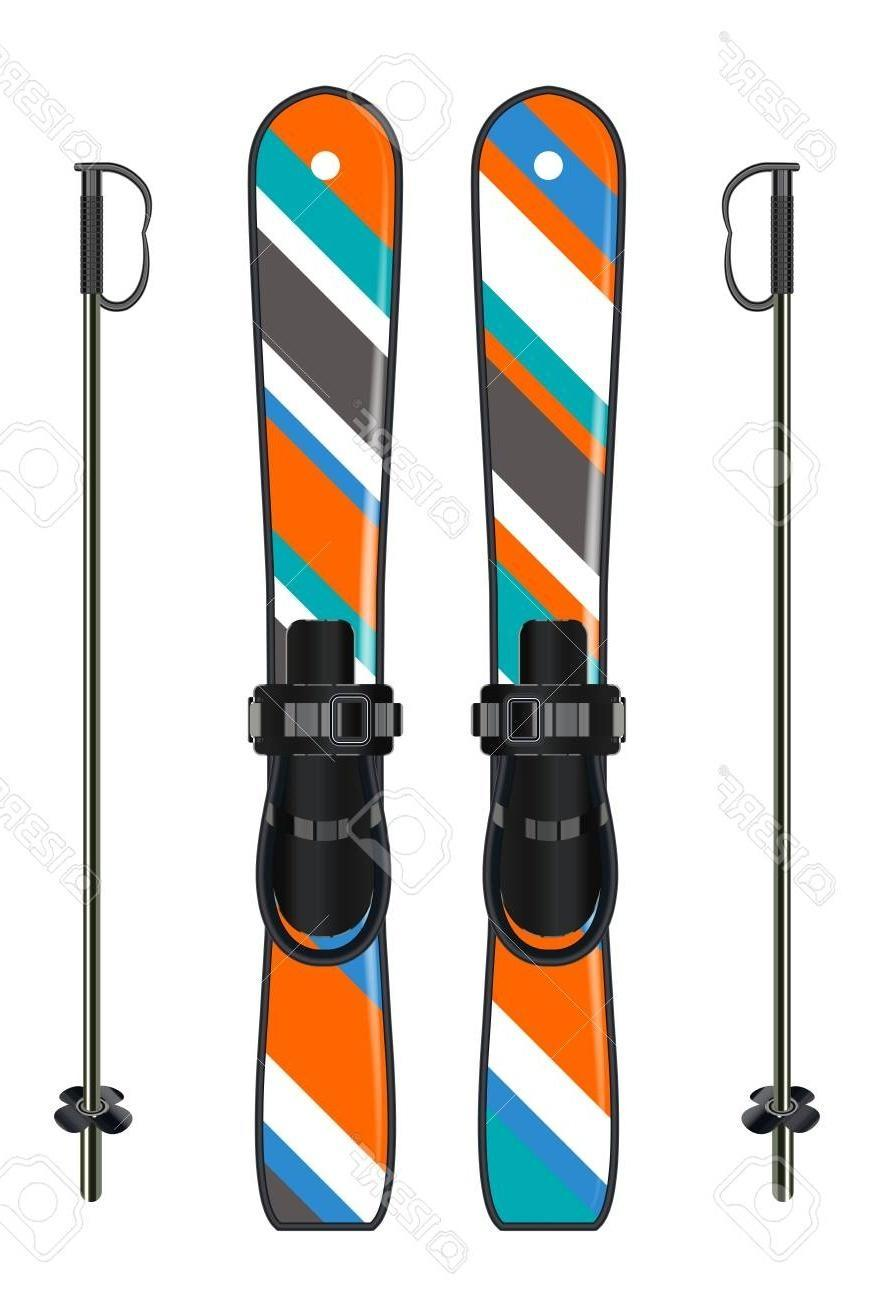Skis: (19, 71, 834, 1214)
